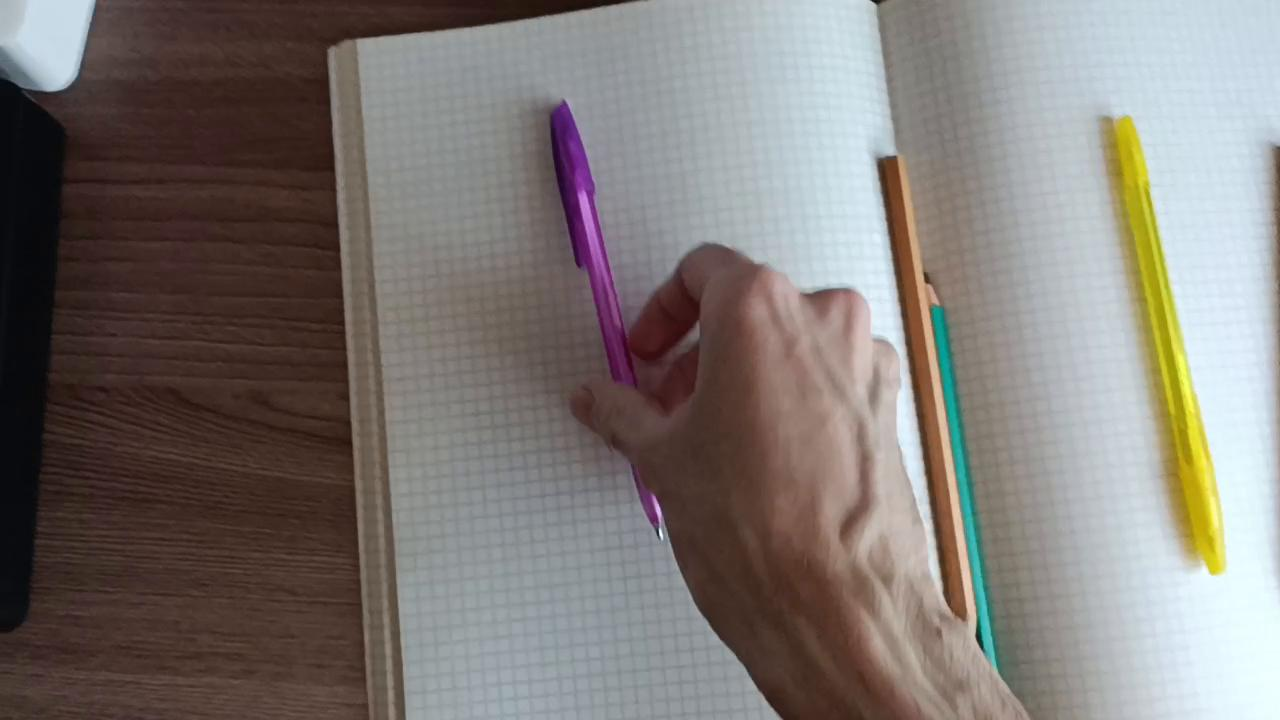pen: (536, 89, 673, 550), (1103, 113, 1232, 584)
pencil: (879, 143, 981, 650), (926, 267, 1004, 694)
